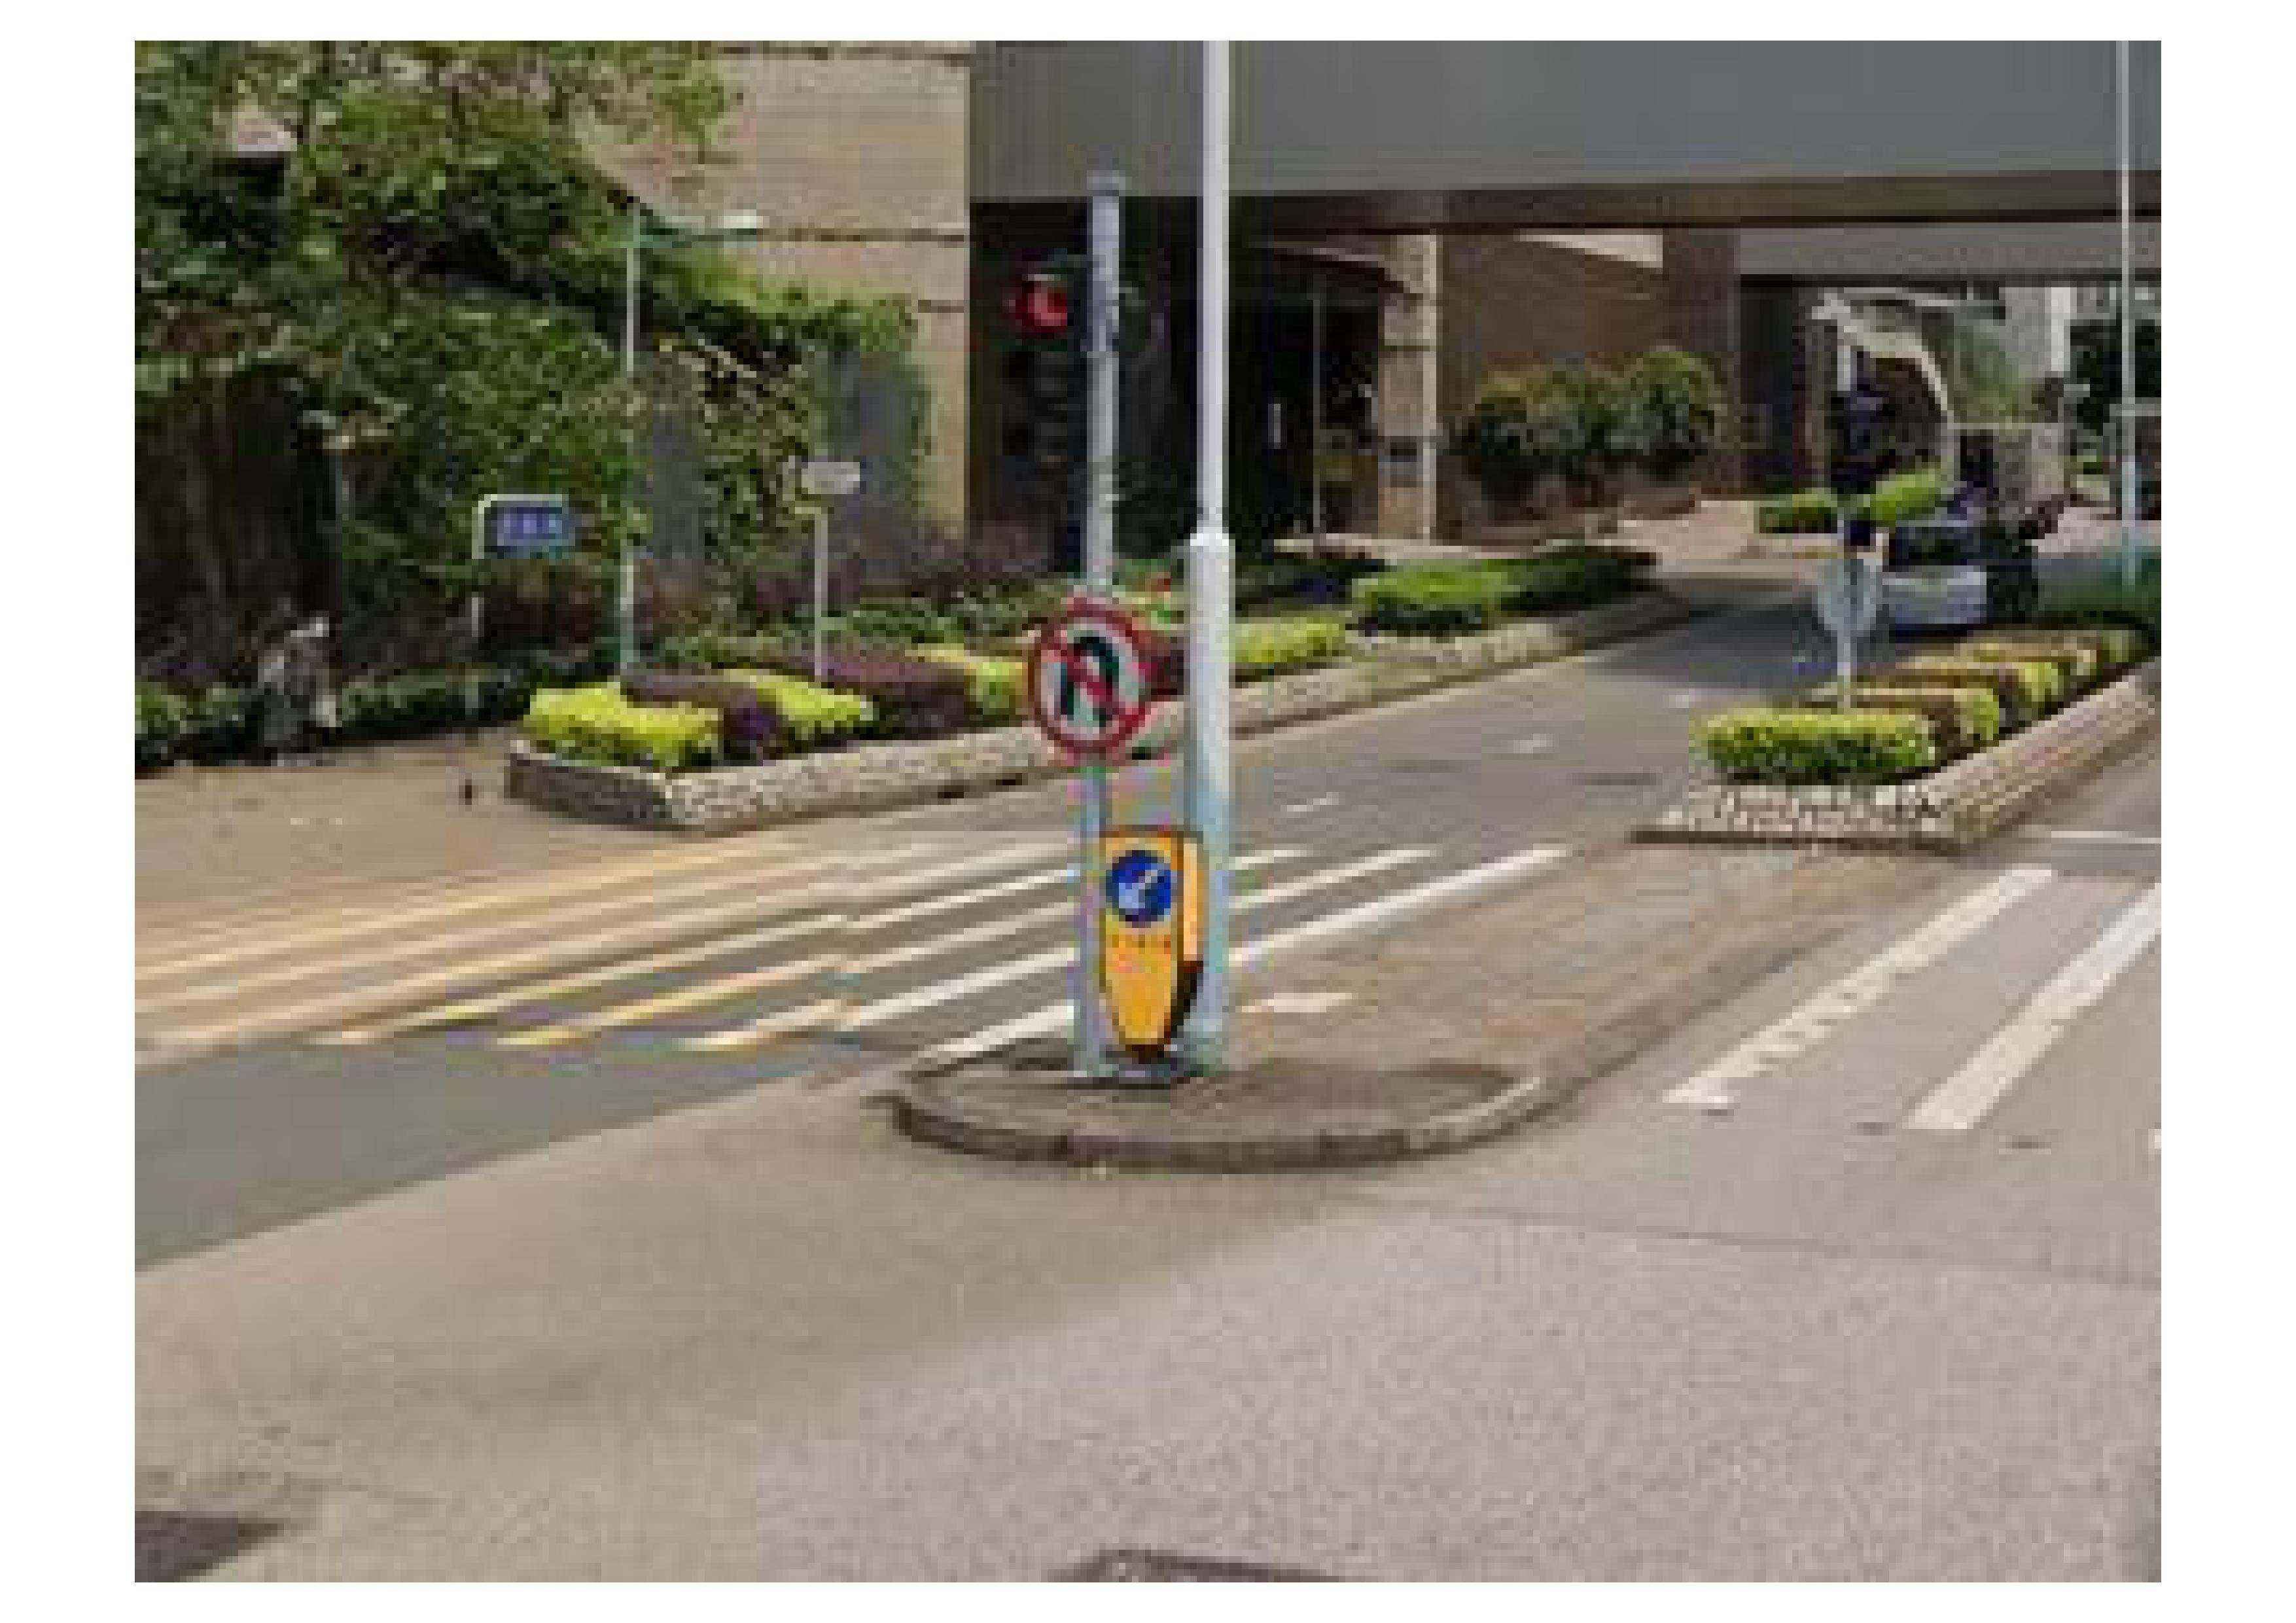No Uturn: (1013, 604, 1167, 755)
